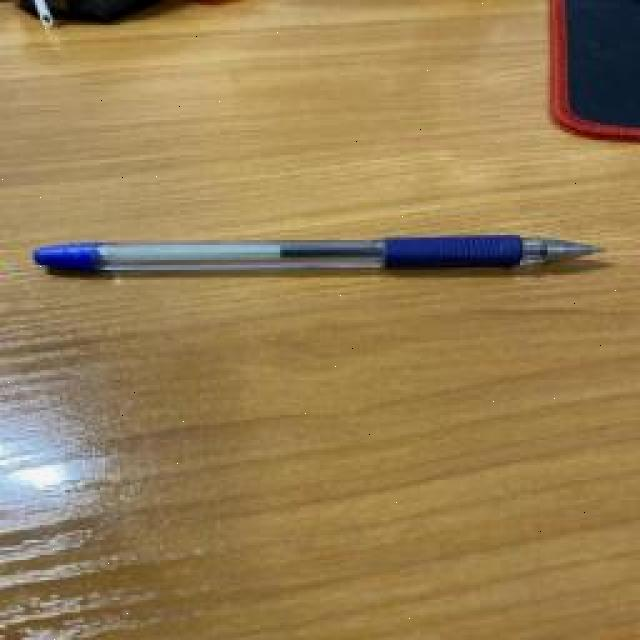pen: (30, 235, 605, 273)
